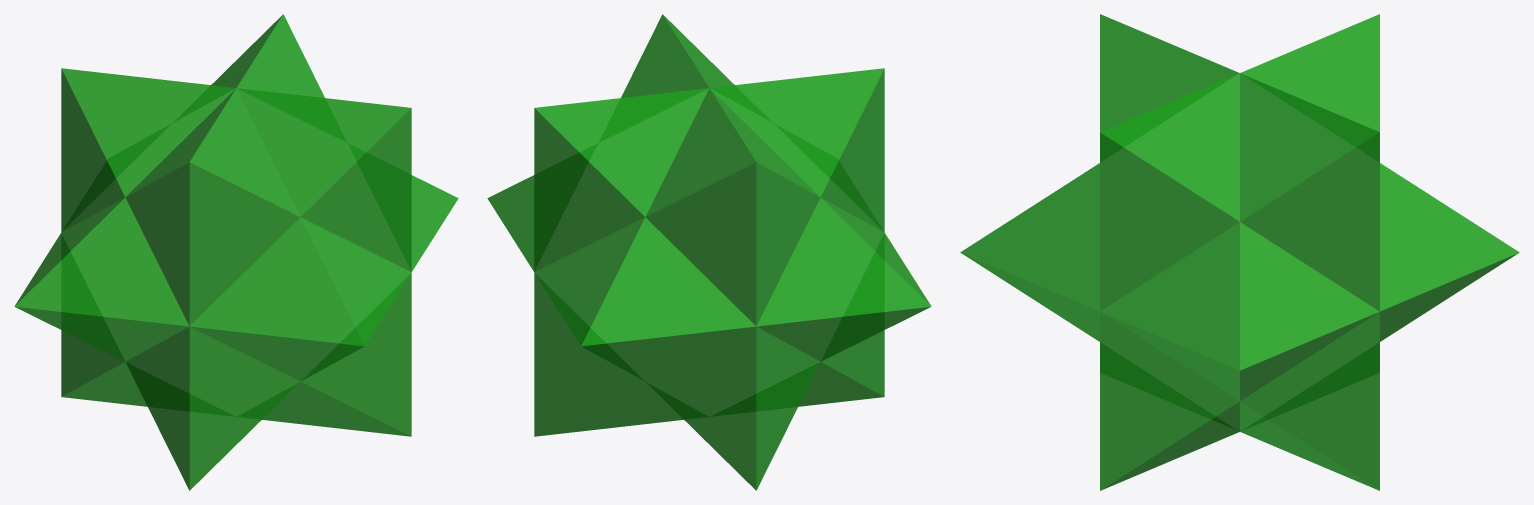
The model's file is fractalescher0.glb.
3 views of the same model, side by side, from view 1: azimuth 30°, elevation 25°; view 2: azimuth 150°, elevation 25°; view 3: azimuth 270°, elevation 25° (orthographic). The views are drawn at different scales.
Size of the model in its own units: 12.42 by 8.78 by 12.42.
